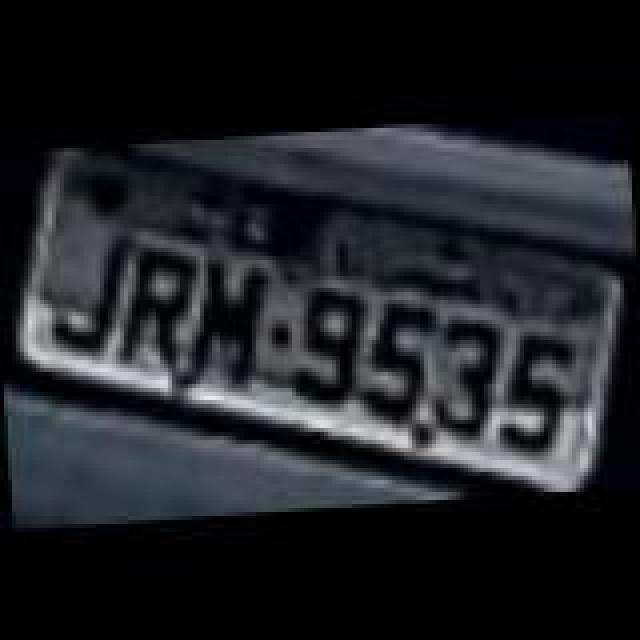3: (428, 316, 508, 444)
5: (490, 326, 590, 474), (354, 294, 446, 426)
9: (288, 282, 368, 406)
J: (46, 230, 138, 354)
M: (184, 252, 272, 396)
R: (110, 246, 202, 370)
